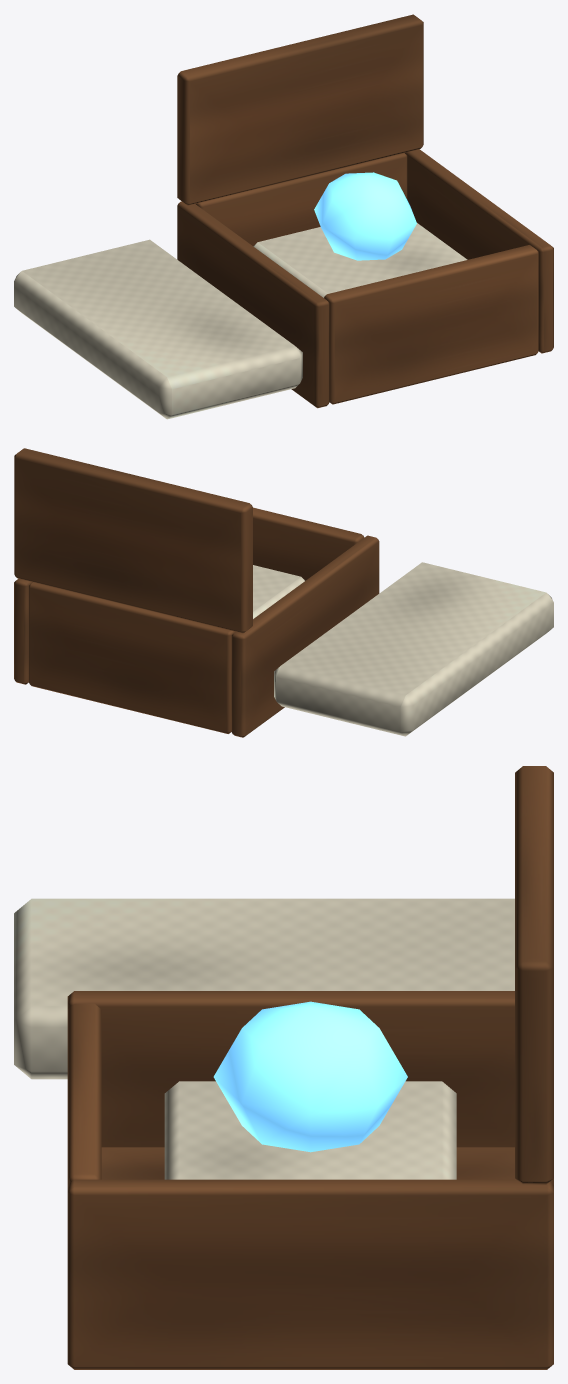
The model's file is Hold_JewelBox.fbx.
The picture shows the model from 3 angles, top to bottom: view 1: azimuth 30°, elevation 25°; view 2: azimuth 150°, elevation 25°; view 3: azimuth 270°, elevation 25°; orthographic projection. The views are drawn at different scales.
Parts seen in each view (by area): view 1: Hold_JewelBox; view 2: Hold_JewelBox; view 3: Hold_JewelBox.
Boxes of the visible parts, x1,y1,x2,y2 form: Hold_JewelBox: [14, 14, 553, 419]; Hold_JewelBox: [14, 448, 553, 737]; Hold_JewelBox: [14, 766, 553, 1369].
Bounding box in the file's own units: 0.18 × 0.1 × 0.12.
2 materials, 1 textured.
